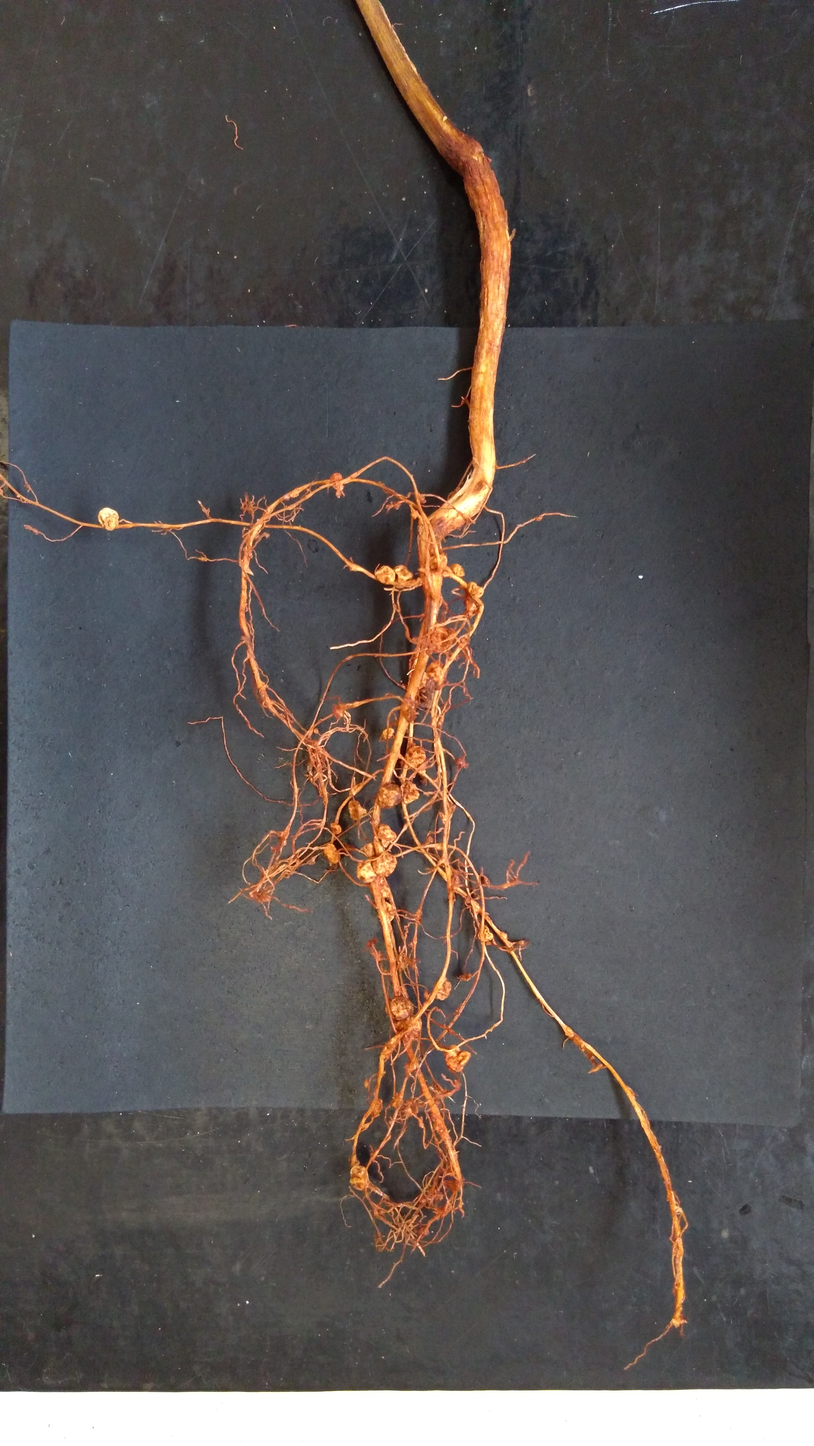nodule: (444, 1043, 472, 1075), (376, 781, 405, 811), (384, 994, 416, 1021), (371, 851, 401, 878), (346, 1164, 372, 1193), (430, 626, 456, 655), (96, 504, 122, 531), (353, 859, 378, 886), (321, 841, 344, 869), (431, 977, 454, 1005), (400, 779, 422, 808), (374, 562, 397, 589), (425, 659, 448, 686), (405, 743, 428, 769), (347, 798, 368, 824), (417, 1187, 446, 1205), (426, 552, 448, 575), (376, 822, 400, 843), (394, 1016, 423, 1032), (393, 562, 414, 583), (463, 594, 479, 620), (465, 580, 486, 598), (328, 470, 344, 492), (360, 841, 378, 859), (403, 1097, 419, 1117), (477, 924, 494, 942), (332, 703, 347, 721), (328, 820, 343, 837), (450, 563, 466, 578), (369, 1096, 383, 1113), (390, 1093, 404, 1107), (381, 727, 395, 740), (403, 1059, 417, 1072), (458, 970, 473, 981), (362, 1077, 370, 1090), (313, 727, 321, 734)
